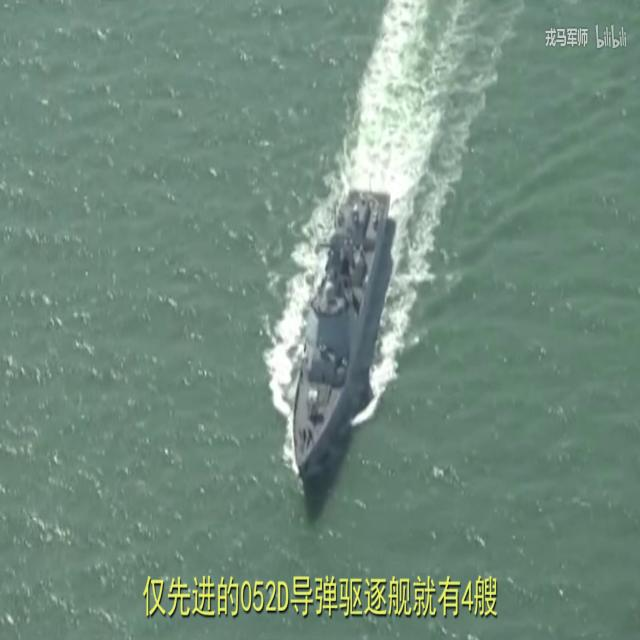navalvessels: (288, 174, 388, 476)
